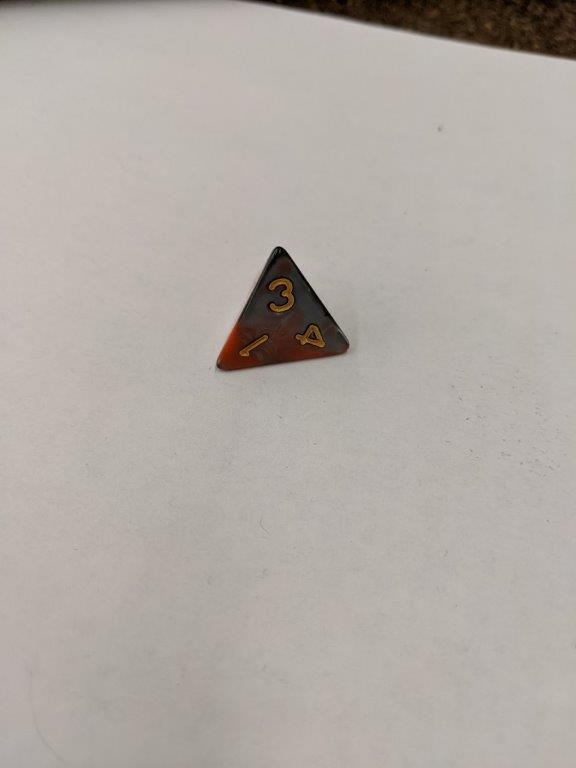d4-3: (211, 243, 353, 376)
